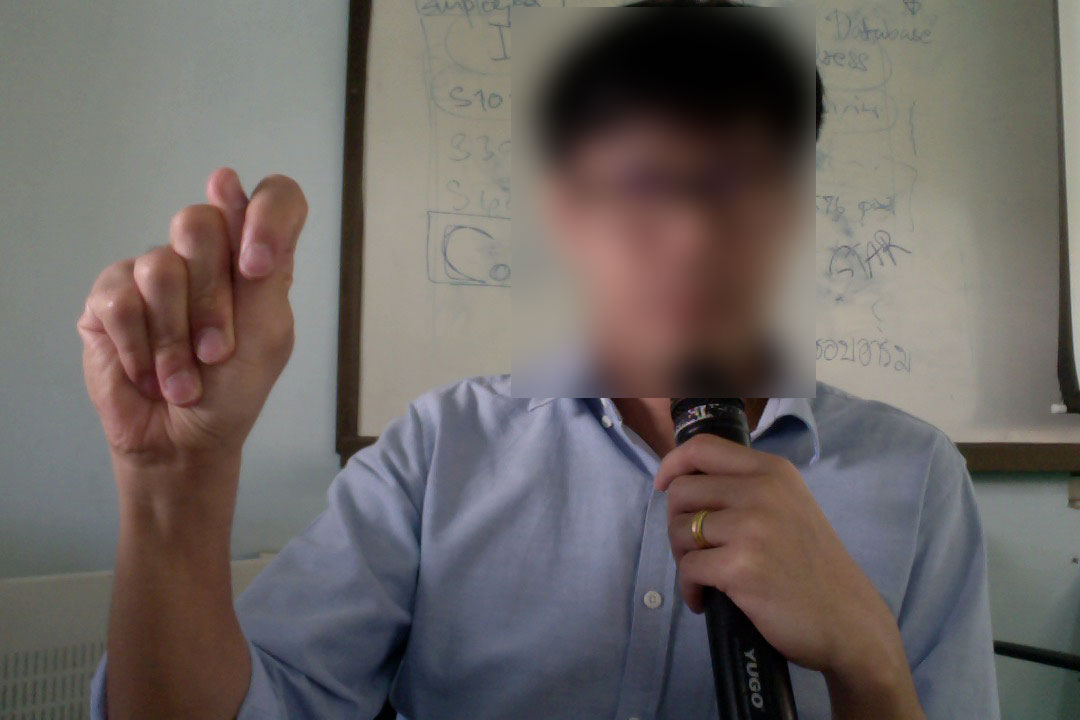tor: (60, 130, 313, 530)
